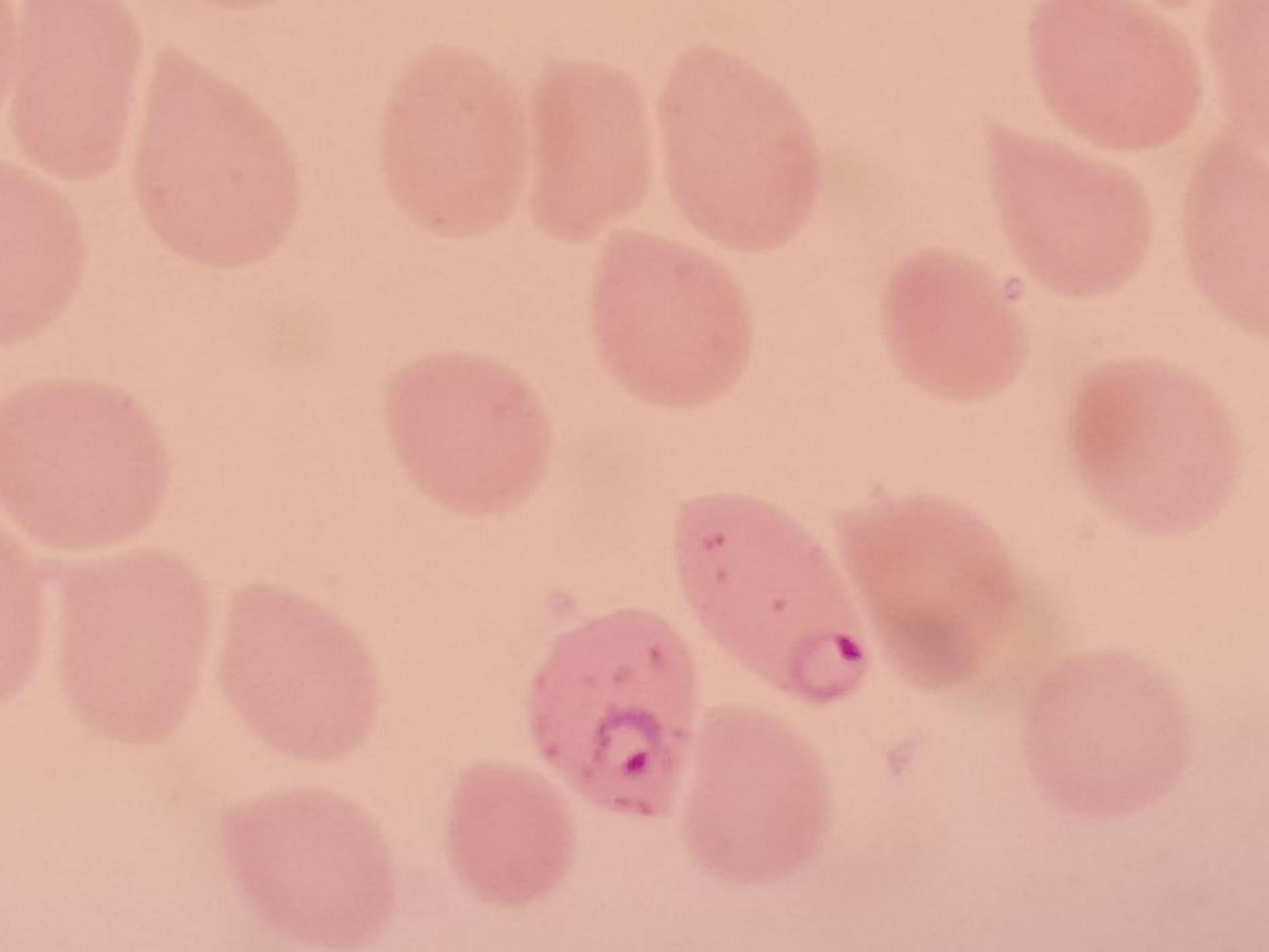Infected: (670, 483, 871, 710), (524, 606, 690, 823)
Uninfected: (828, 483, 1008, 688), (130, 49, 291, 272), (650, 40, 814, 251), (985, 115, 1156, 309), (1066, 360, 1238, 542), (0, 377, 167, 558), (53, 553, 207, 746), (1027, 0, 1209, 162), (220, 780, 388, 948), (595, 228, 745, 414), (225, 582, 380, 761), (683, 705, 831, 890), (381, 54, 521, 238), (1027, 655, 1182, 820), (388, 353, 543, 517), (1, 3, 132, 184), (877, 241, 1022, 404), (524, 54, 646, 244), (454, 763, 573, 909)
